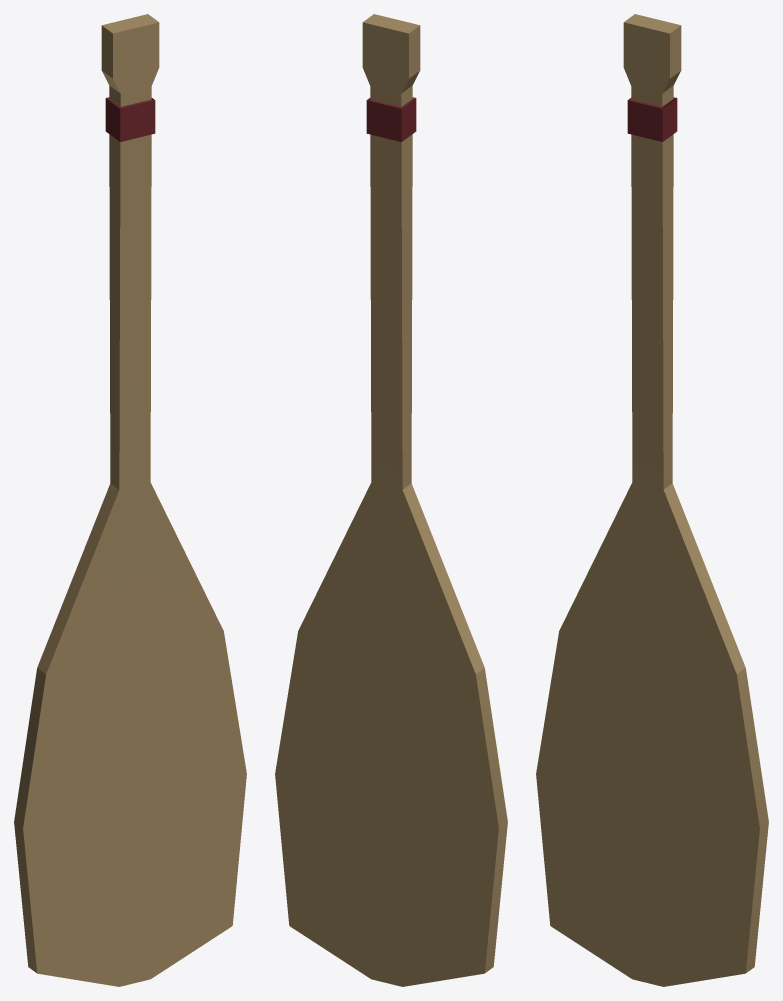
File: Paddle .obj
3 views of the same model, side by side, from view 1: azimuth 30°, elevation 25°; view 2: azimuth 150°, elevation 25°; view 3: azimuth 330°, elevation 25° (orthographic).
Visible parts, largest first — view 1: Paddle_9; view 2: Paddle_9; view 3: Paddle_9.
Boxes of the visible parts, x1,y1,x2,y2 form: Paddle_9: (14, 14, 246, 986); Paddle_9: (275, 14, 507, 986); Paddle_9: (536, 14, 768, 986).
Bounding box in the file's own units: 42.15 × 172 × 4.8.
1 material, 1 textured.
